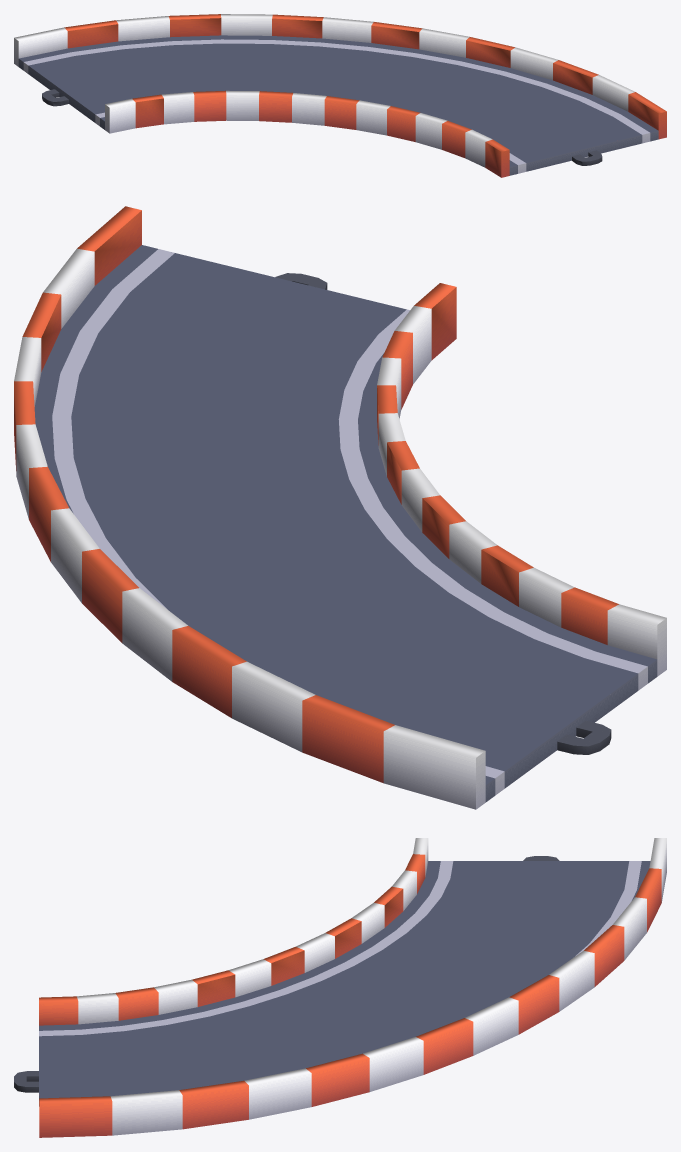
The model's file is track-road-wide-corner-large.009_lev1.glb.
The picture shows the model from 3 angles, top to bottom: view 1: azimuth 30°, elevation 25°; view 2: azimuth 150°, elevation 25°; view 3: azimuth 270°, elevation 25°; orthographic projection. The views are drawn at different scales.
Parts seen in each view (by area): view 1: track-road-wide-corner-large.009_lev1; view 2: track-road-wide-corner-large.009_lev1; view 3: track-road-wide-corner-large.009_lev1.
Part boxes in pixels (left/top/right/bottom): track-road-wide-corner-large.009_lev1: left=14, top=14, right=666, bottom=177; track-road-wide-corner-large.009_lev1: left=14, top=206, right=666, bottom=809; track-road-wide-corner-large.009_lev1: left=14, top=838, right=666, bottom=1137.
Size of the model in its own units: 5.2 by 0.3 by 5.2.
Materials: 1 (1 with a texture image).
